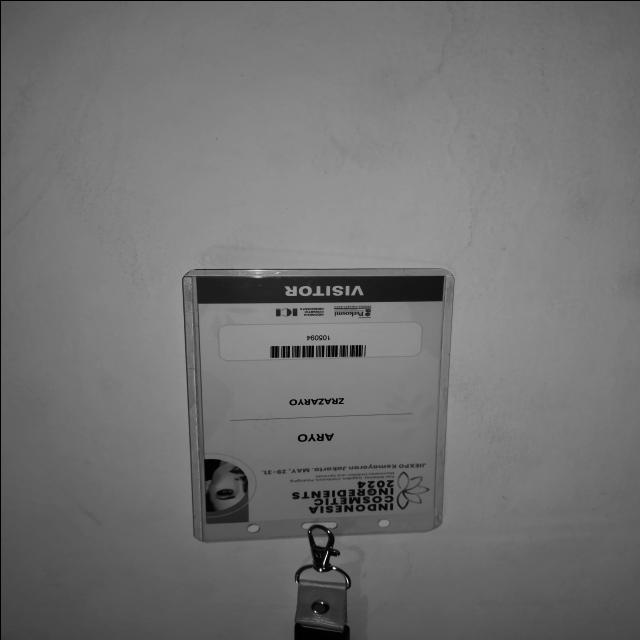ID_card: (182, 268, 454, 542)
